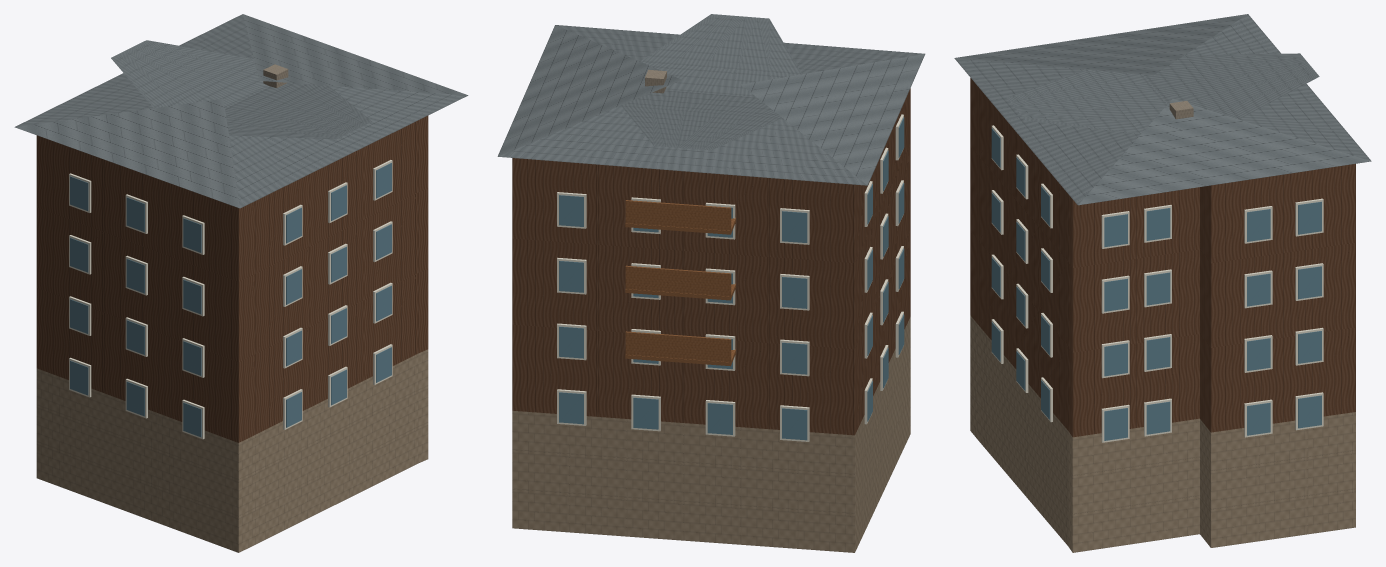
Rendered from core_0061.gltf.
The picture shows the model from 3 angles, left to right: view 1: azimuth 30°, elevation 25°; view 2: azimuth 150°, elevation 25°; view 3: azimuth 270°, elevation 25°; orthographic projection. The views are drawn at different scales.
Visible parts, largest first — view 1: core_0061; view 2: core_0061; view 3: core_0061.
Boxes of the visible parts, x1,y1,x2,y2 form: core_0061: (14, 14, 468, 552); core_0061: (497, 14, 925, 552); core_0061: (954, 14, 1371, 552).
Size of the model in its own units: 18.12 by 17.45 by 16.71.
7 materials, 7 textured.
